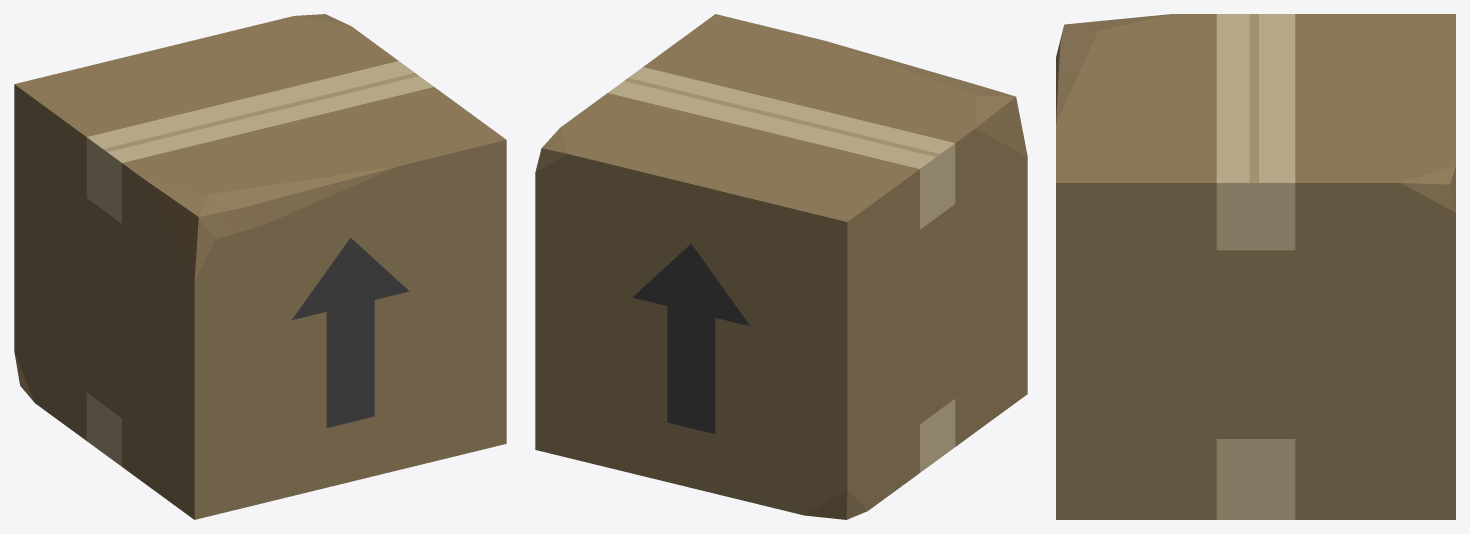
The model's file is SM_Prop_CardboardBox_01_509.obj.
3 views of the same model, side by side, from view 1: azimuth 30°, elevation 25°; view 2: azimuth 150°, elevation 25°; view 3: azimuth 270°, elevation 25° (orthographic). The views are drawn at different scales.
Visible parts, largest first — view 1: SM_Prop_CardboardBox_01_0; view 2: SM_Prop_CardboardBox_01_0; view 3: SM_Prop_CardboardBox_01_0.
Boxes of the visible parts, x1,y1,x2,y2 form: SM_Prop_CardboardBox_01_0: (14, 14, 506, 519); SM_Prop_CardboardBox_01_0: (535, 14, 1027, 519); SM_Prop_CardboardBox_01_0: (1056, 14, 1455, 519).
Size of the model in its own units: 0.5 by 0.4651 by 0.5.
1 material, 1 textured.
